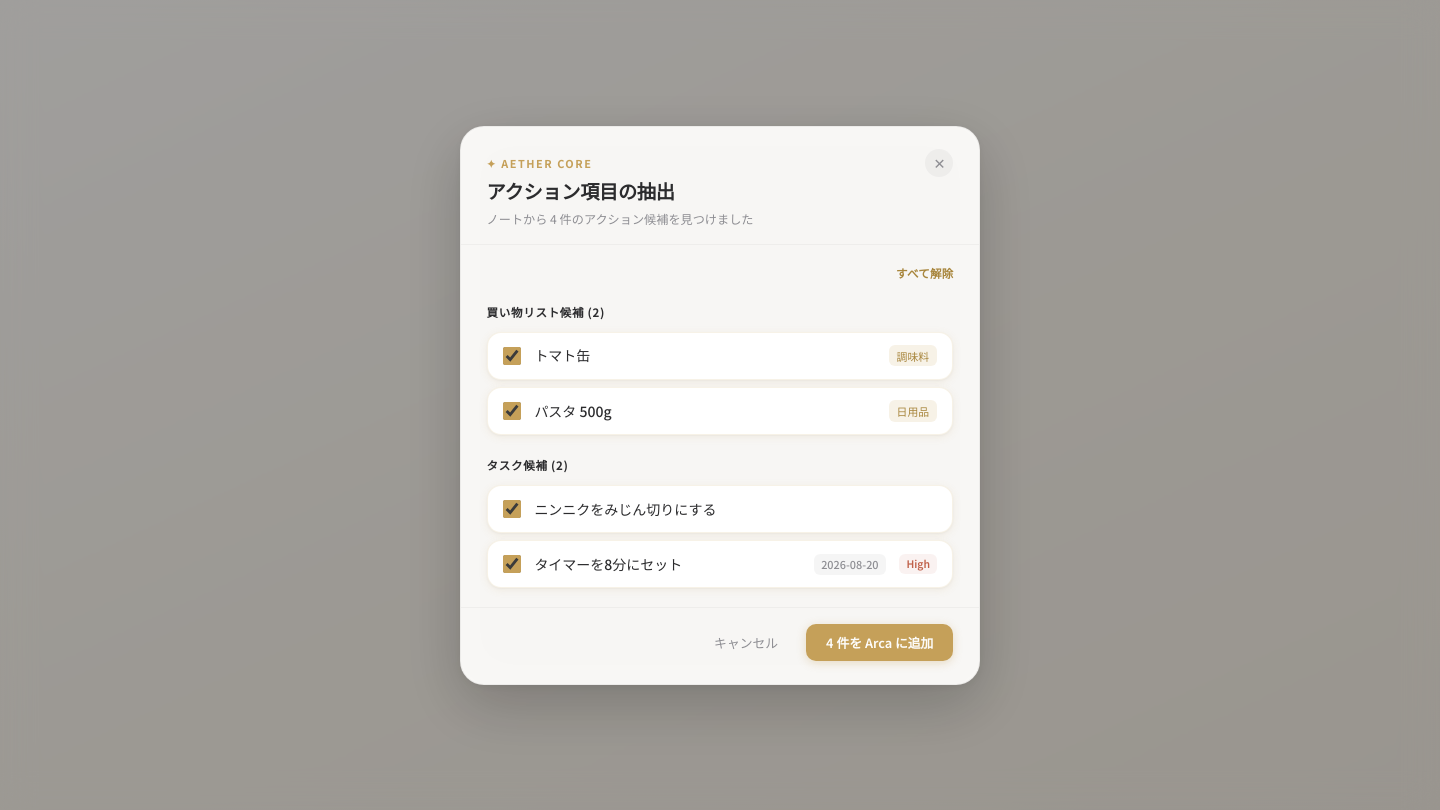
it: AetherExtractModal コンポーネント › すべて解除・すべて選択ボタンで選択状態を切り替えられる
Click the button "すべて解除". click: [925, 273]
box: left=896, top=264, right=953, bottom=282
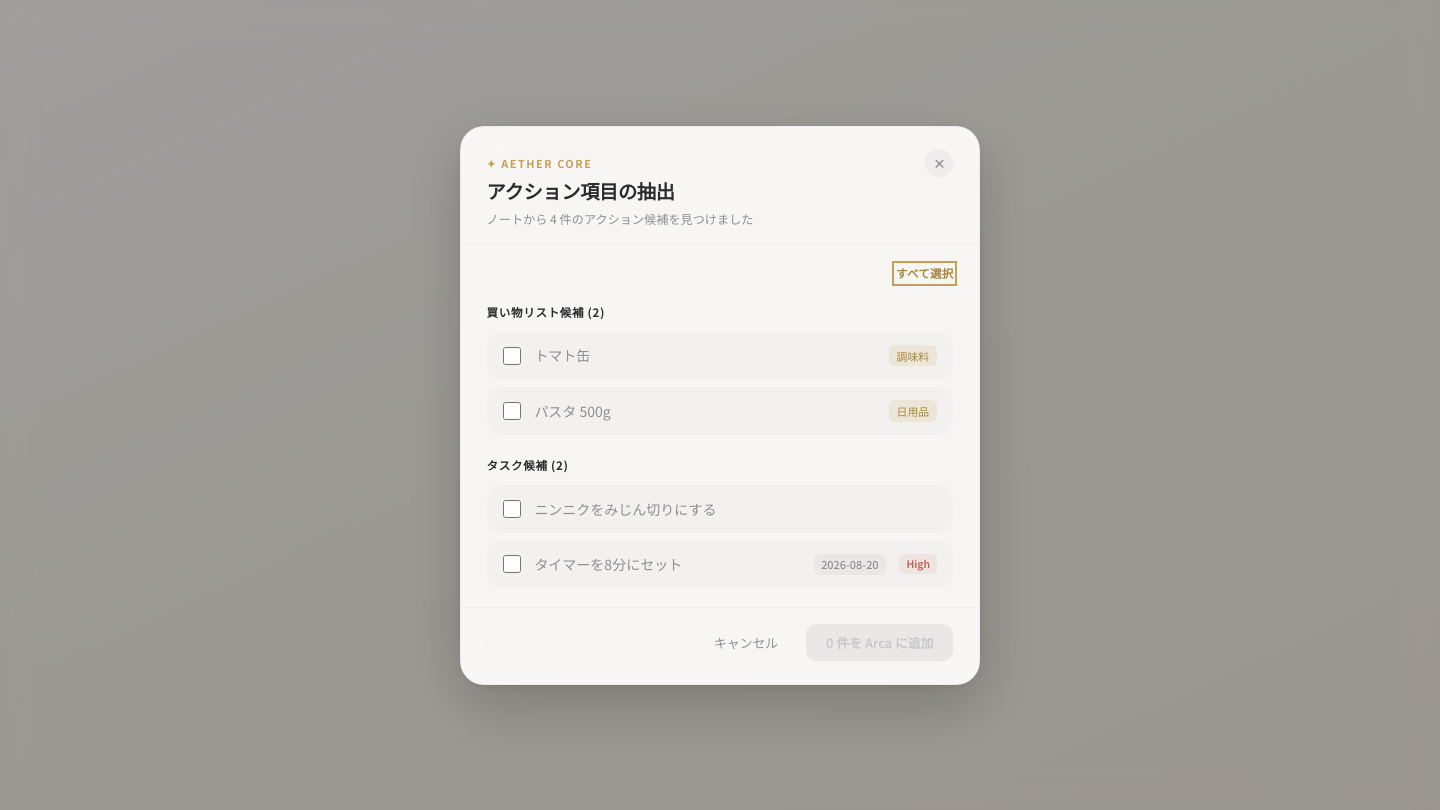
Expected: the button "すべて選択" is shown
Expected: the button "0 件を Arca に追加" is disabled, left=806, top=624, right=953, bottom=661
Click the button "すべて選択". click: [925, 273]
box: left=896, top=264, right=953, bottom=282
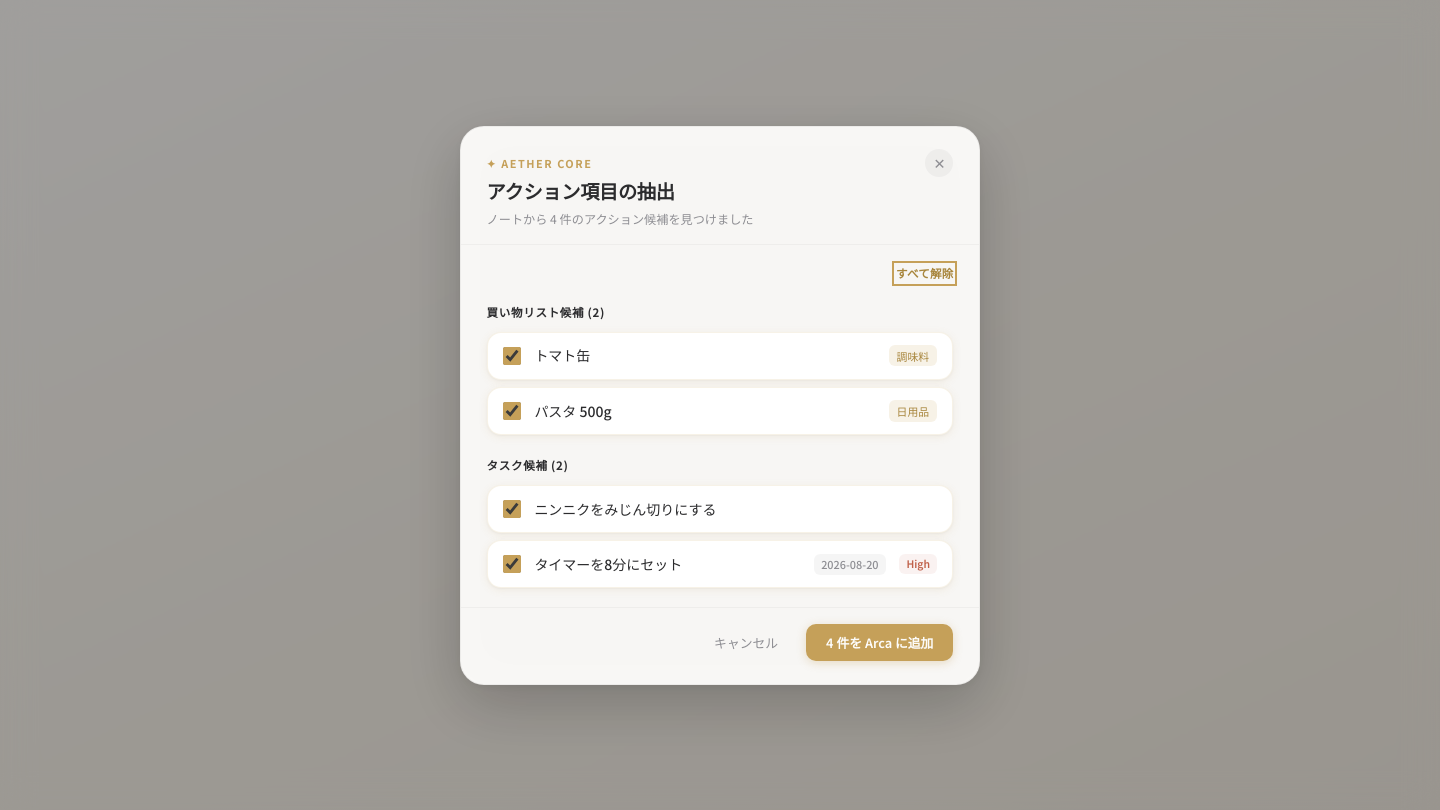
Expected: the button "4 件を Arca に追加" is enabled, left=806, top=624, right=953, bottom=661
